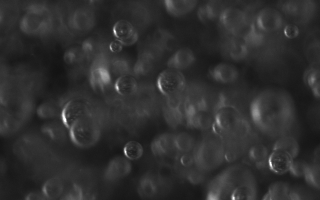bubble: (249, 88, 295, 135), (60, 97, 101, 133), (153, 67, 188, 99), (69, 116, 101, 150), (266, 148, 293, 177), (112, 73, 139, 98), (213, 104, 238, 129), (110, 18, 136, 41), (119, 139, 144, 162), (40, 176, 63, 200), (227, 185, 254, 200), (283, 22, 300, 40), (178, 153, 194, 168), (106, 41, 123, 55), (223, 149, 235, 162)
